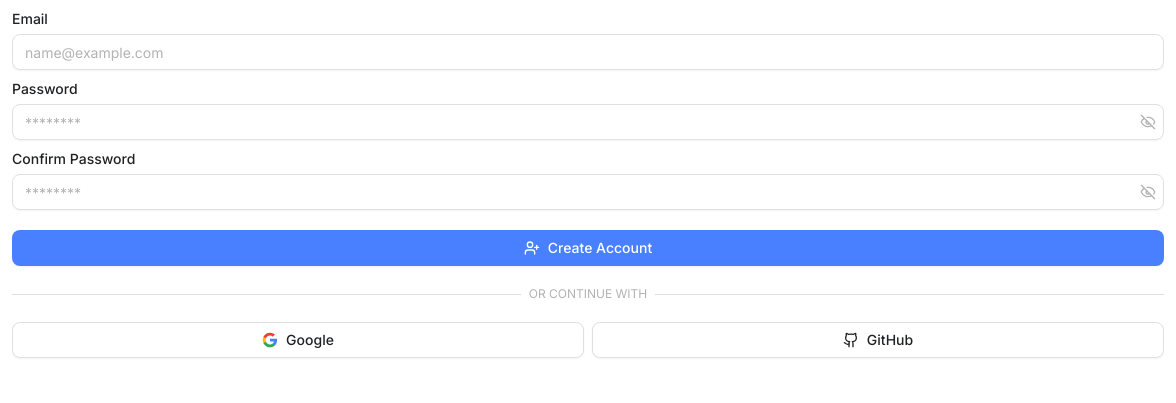
SignUpForm Component › displays validation error when passwords do not match
Step 1. Type "user@example.com" into the field labelled "Email" → point(588, 52), box [12,34,1164,70]
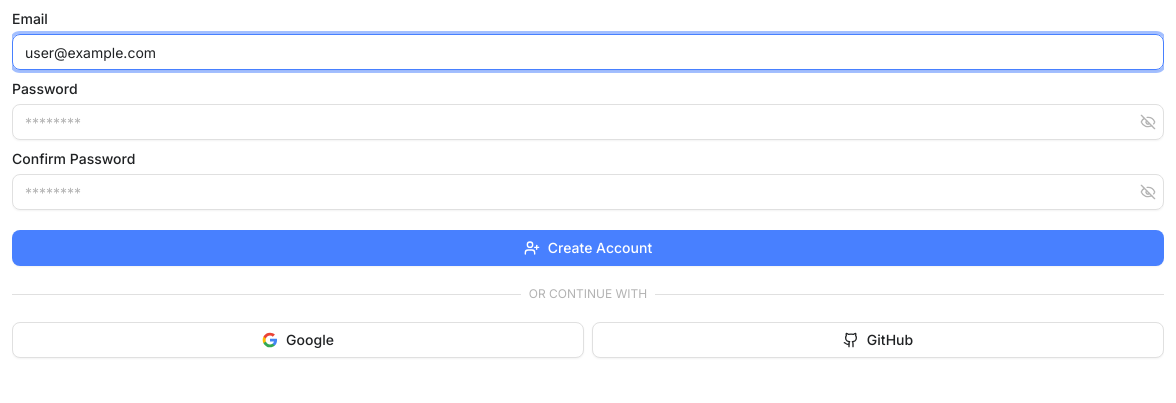
Step 2. Type "Password123!" into the password field labelled "Password" → point(588, 122), box [12,104,1164,140]
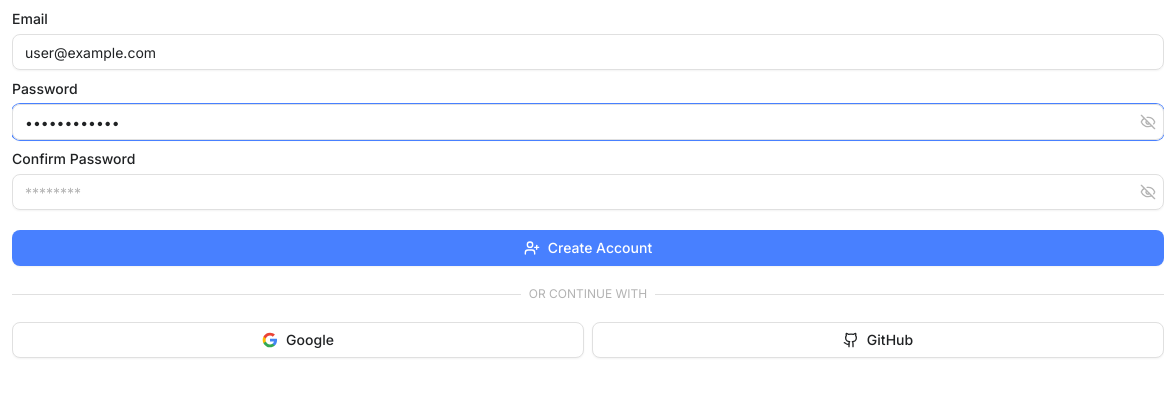
Step 3. Type "DifferentPassword!" into the password field labelled "Confirm Password" → point(588, 192), box [12,174,1164,210]
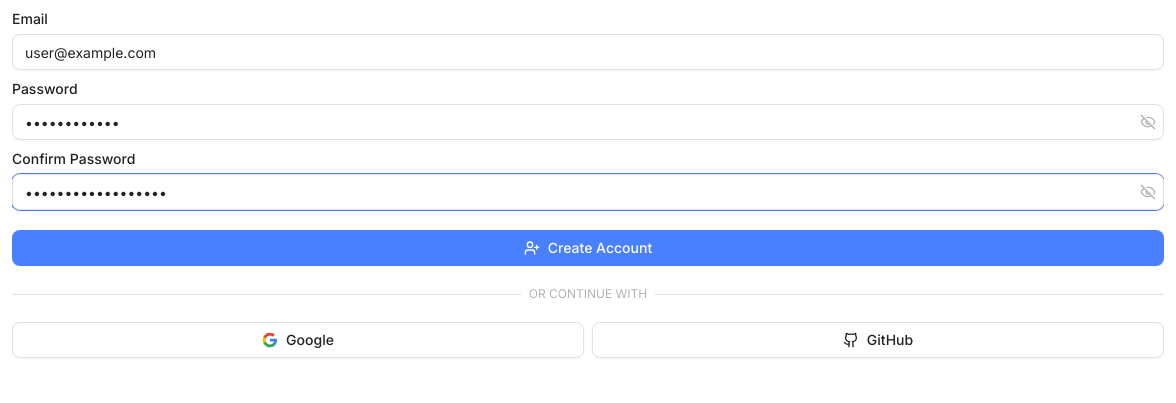
Step 4. Click the button "Create Account" → point(588, 248), box [12,230,1164,266]
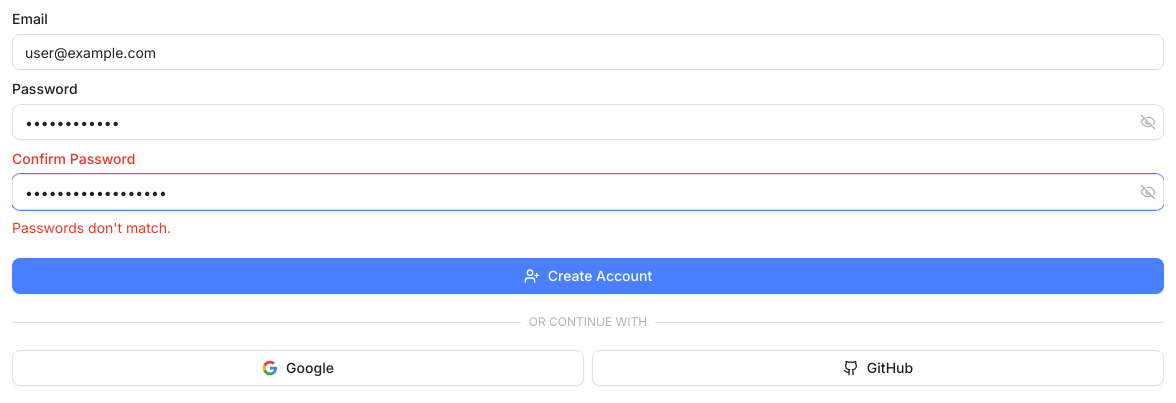
Now the text "Passwords don't match." is shown, box [12,219,171,236]
